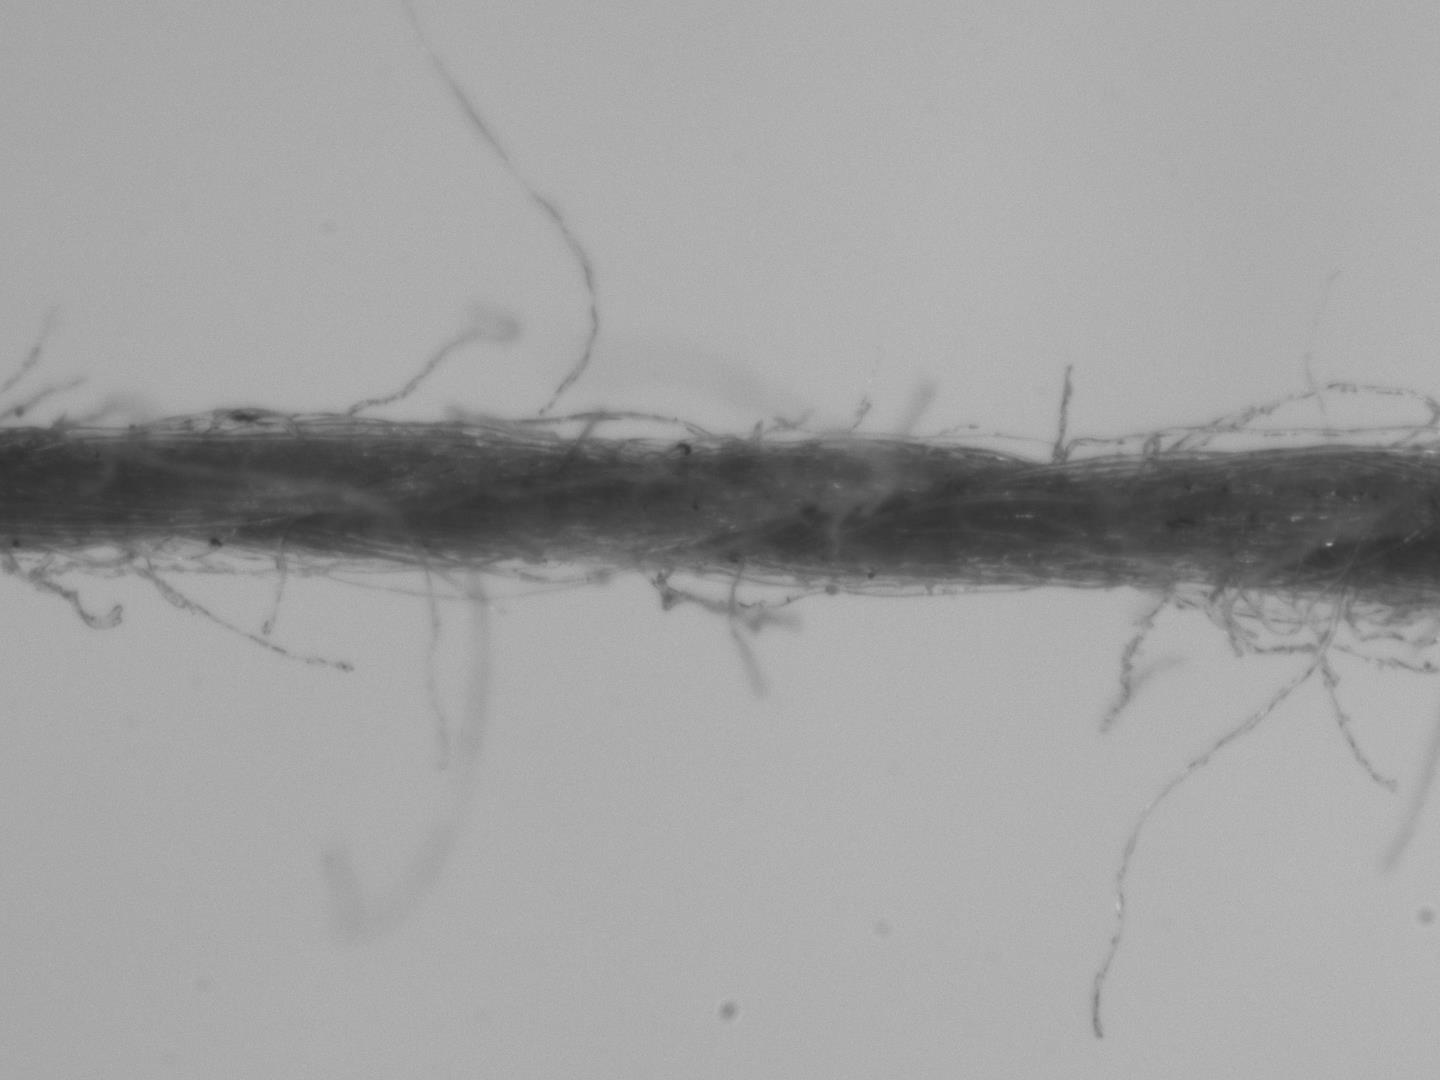loop_fiber: (1154, 378, 1439, 461), (474, 406, 729, 449)
protruding_fiber: (1082, 597, 1344, 1043), (401, 5, 605, 427), (108, 558, 366, 678), (330, 303, 522, 417), (413, 556, 458, 774), (1043, 352, 1085, 467)
